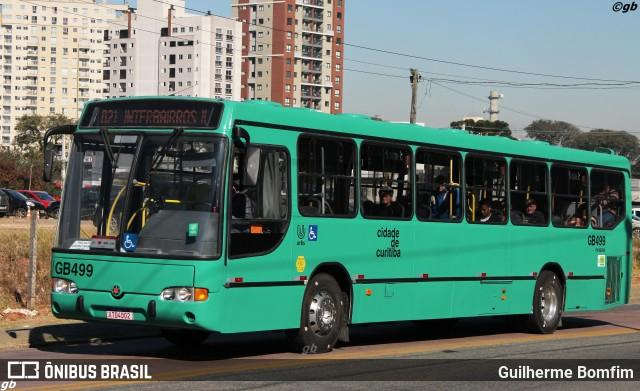INTERBAIRROS II: (119, 106, 208, 128)
